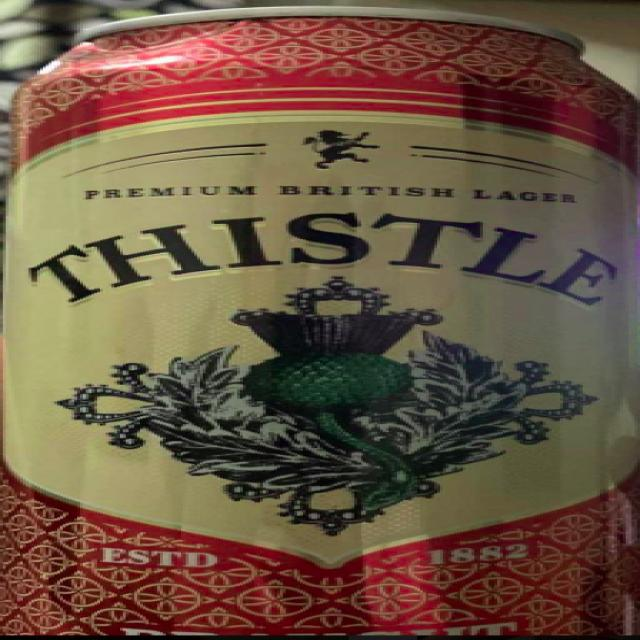Thistle Draught: (0, 0, 640, 640)
